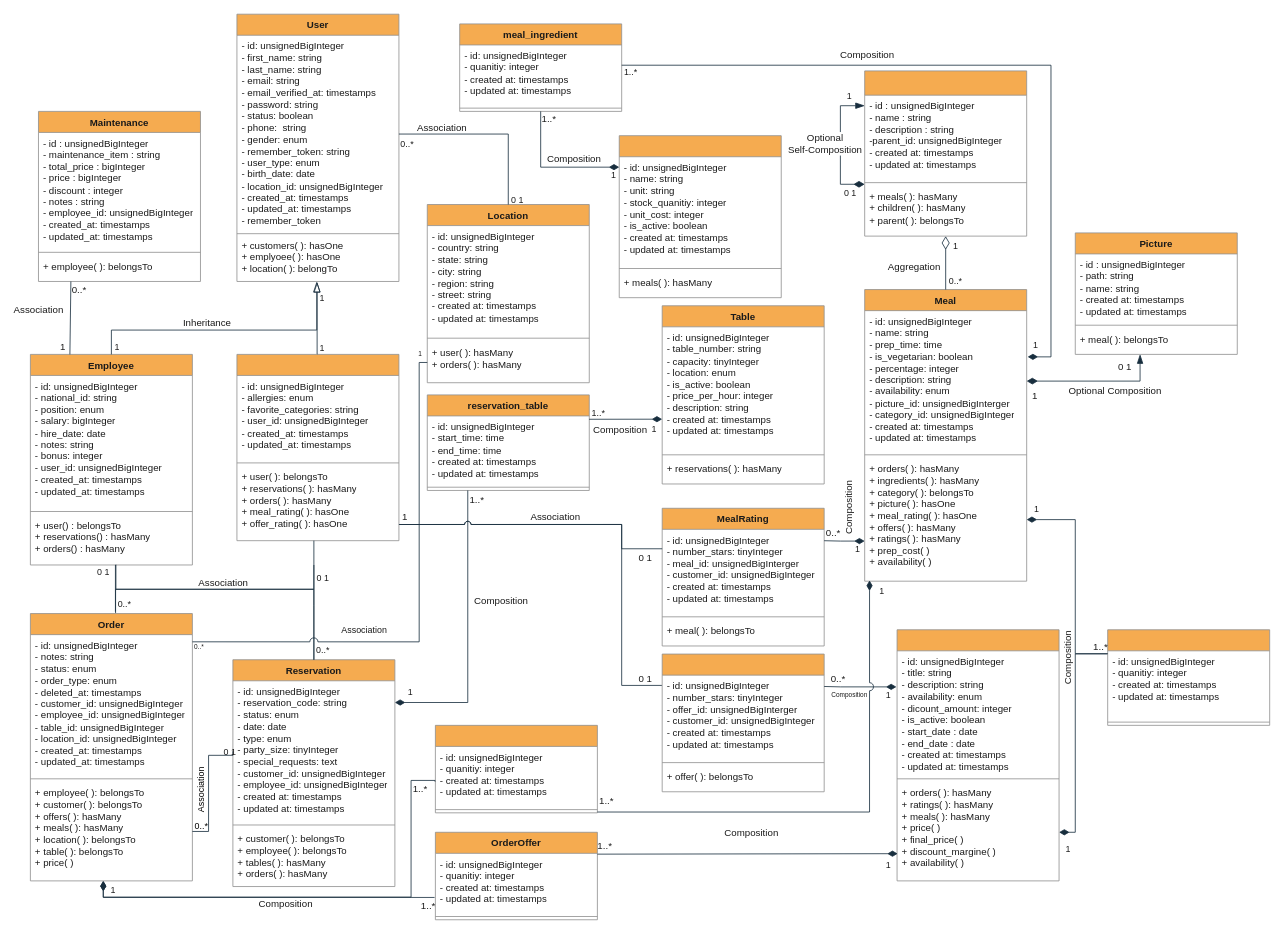
The diagram is 1284 pixels wide and 935 high, and some of its shapes have lost their labels. Here are the shapes that lost their labels. From the top down, the box of each, then its label:
(864, 70, 1027, 236): Category
(618, 135, 781, 298): Ingredient
(236, 354, 399, 541): Customer
(1107, 629, 1270, 725): meal_offer
(661, 653, 824, 792): OfferRating
(435, 725, 597, 813): OrderMeal
(896, 629, 1059, 881): Offer
